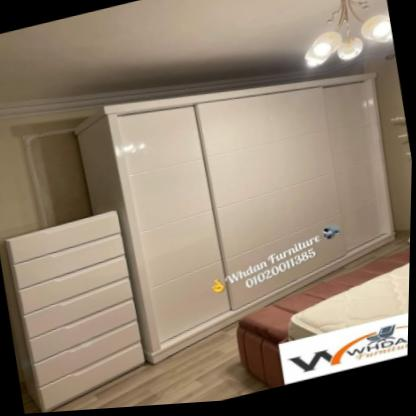Closet: (102, 78, 398, 368)
